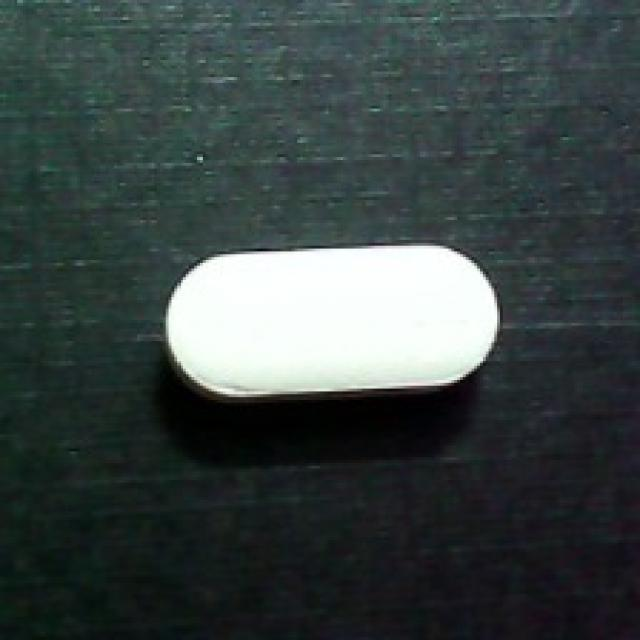no-defect: (160, 243, 506, 409)
